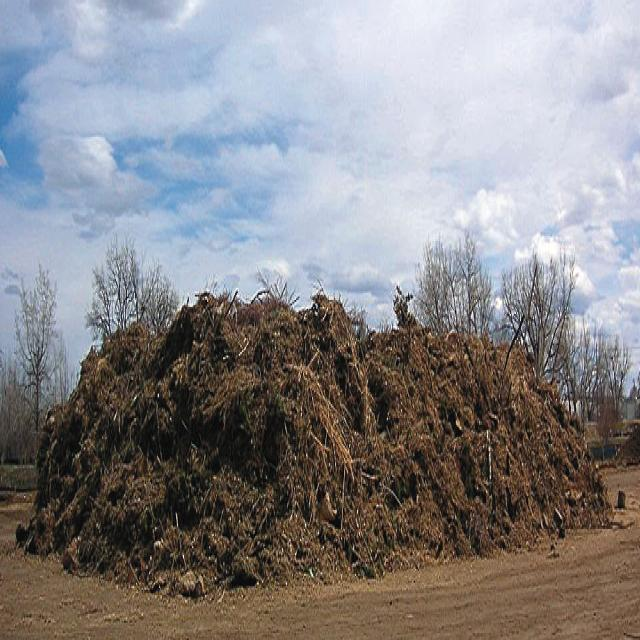green waste: (18, 246, 614, 574)
